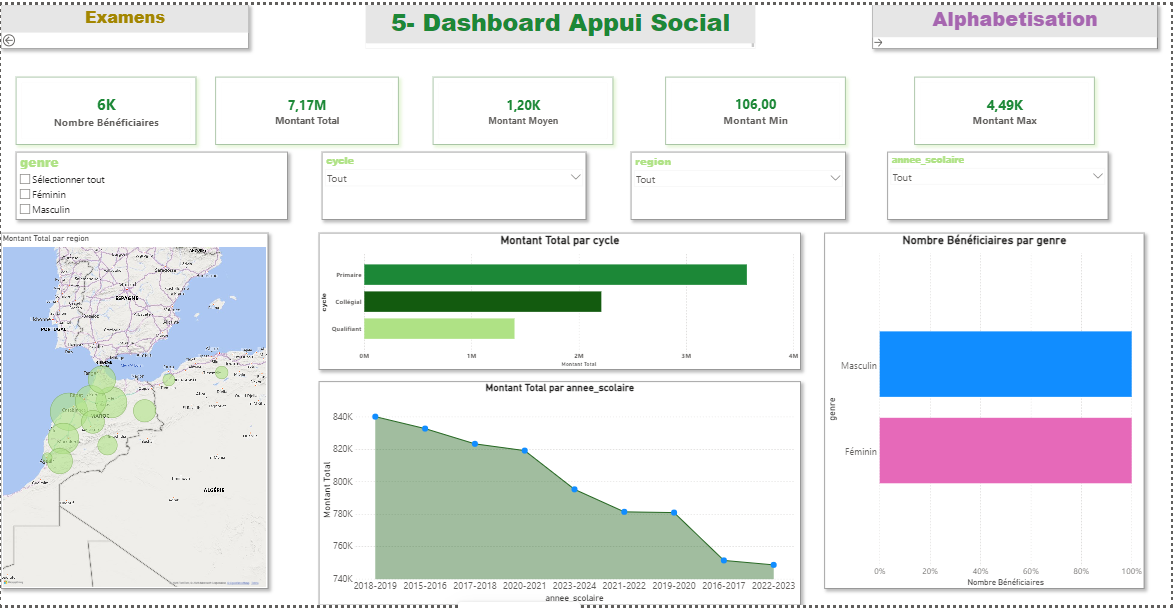

Layout of this report page (visuals, bound fields, positions):
{"tool":"powerbi","page":{"name":"Appui Social","canvas":[3900,2000],"ordinal":4},"visuals":[{"type":"map","fields":{"Category":["gold dim_region.region"],"Size":["Mesures.Montant Total"]},"box":[0,760,890,1185],"z":0},{"type":"barChart","fields":{"Y":["Mesures.Montant Total"],"Category":["gold dim_cycle.cycle"]},"box":[1060,760,1605,455],"z":1},{"type":"hundredPercentStackedBarChart","fields":{"Y":["Mesures.Nombre Bénéficiaires"],"Category":["gold dim_genre.genre"]},"box":[2745,760,1065,1185],"z":2},{"type":"lineChart","fields":{"Category":["gold dim_date.annee_scolaire"],"Y":["Mesures.Montant Total"]},"box":[1060,1255,1605,745],"z":3},{"type":"textbox","title":"5- Dashboard Appui Social","box":[1215,0,1300,145],"z":4},{"type":"actionButton","title":"Alphabetisation","box":[2905,0,950,145],"z":5},{"type":"actionButton","title":"Examens","box":[0,0,825,145],"z":6},{"type":"cardVisual","fields":{"Data":["Mesures.Nombre Bénéficiaires"]},"box":[50,240,600,225],"z":7},{"type":"cardVisual","fields":{"Data":["Mesures.Montant Total"]},"box":[715,240,610,225],"z":8},{"type":"cardVisual","fields":{"Data":["Mesures.Montant Moyen"]},"box":[1440,240,600,225],"z":9},{"type":"cardVisual","fields":{"Data":["Mesures.Montant Min"]},"box":[2215,240,600,225],"z":10},{"type":"cardVisual","fields":{"Data":["Mesures.Montant Max"]},"box":[3045,240,600,225],"z":11},{"type":"slicer","fields":{"Values":["gold dim_genre.genre"]},"box":[50,490,905,225],"z":12},{"type":"slicer","fields":{"Values":["gold dim_cycle.cycle"]},"box":[1070,490,880,225],"z":13},{"type":"slicer","fields":{"Values":["gold dim_region.region"]},"box":[2100,490,715,225],"z":14},{"type":"slicer","fields":{"Values":["gold dim_date.annee_scolaire"]},"box":[2955,490,735,225],"z":15}]}

Visuals, with their boxes in screenshot pixels (x1, y1, x2, y2), scaled from the page's 3900x2000 canvas onto the 1173x608 screenshot:
map - gold dim_region.region x Mesures.Montant Total: bbox(0, 231, 268, 591)
barChart - Mesures.Montant Total x gold dim_cycle.cycle: bbox(319, 231, 802, 369)
hundredPercentStackedBarChart - Mesures.Nombre Bénéficiaires x gold dim_genre.genre: bbox(826, 231, 1146, 591)
lineChart - gold dim_date.annee_scolaire x Mesures.Montant Total: bbox(319, 382, 802, 607)
"5- Dashboard Appui Social" textbox: bbox(365, 0, 756, 44)
"Alphabetisation" actionButton: bbox(874, 0, 1159, 44)
"Examens" actionButton: bbox(0, 0, 248, 44)
cardVisual - Mesures.Nombre Bénéficiaires: bbox(15, 73, 196, 141)
cardVisual - Mesures.Montant Total: bbox(215, 73, 399, 141)
cardVisual - Mesures.Montant Moyen: bbox(433, 73, 614, 141)
cardVisual - Mesures.Montant Min: bbox(666, 73, 847, 141)
cardVisual - Mesures.Montant Max: bbox(916, 73, 1096, 141)
slicer - gold dim_genre.genre: bbox(15, 149, 287, 217)
slicer - gold dim_cycle.cycle: bbox(322, 149, 586, 217)
slicer - gold dim_region.region: bbox(632, 149, 847, 217)
slicer - gold dim_date.annee_scolaire: bbox(889, 149, 1110, 217)
